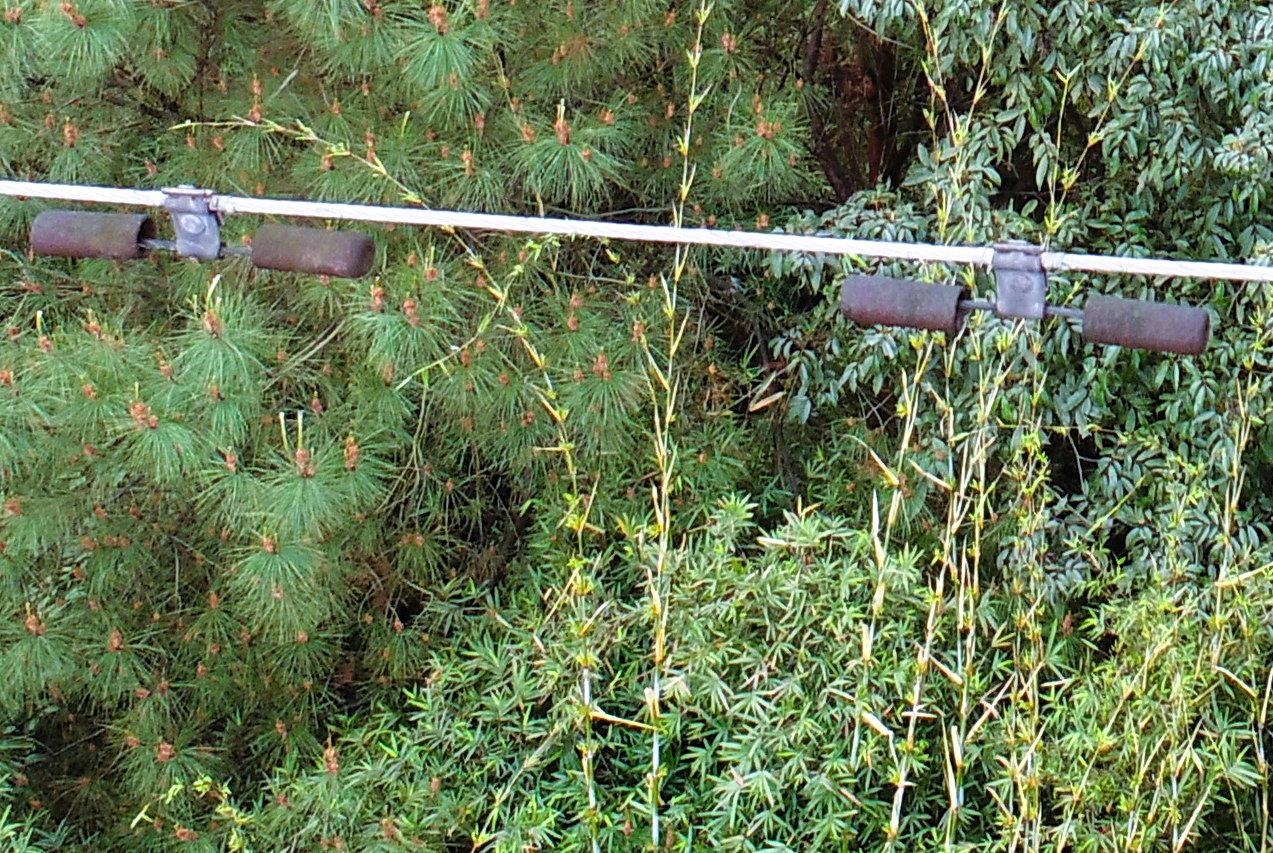Shockproof hammer: (826, 218, 1218, 368), (23, 168, 382, 290)
